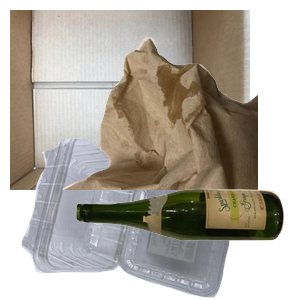cardboard: (10, 10, 250, 190)
glass: (74, 186, 300, 300)
plastic: (19, 139, 249, 300)
trash: (60, 35, 300, 215)
